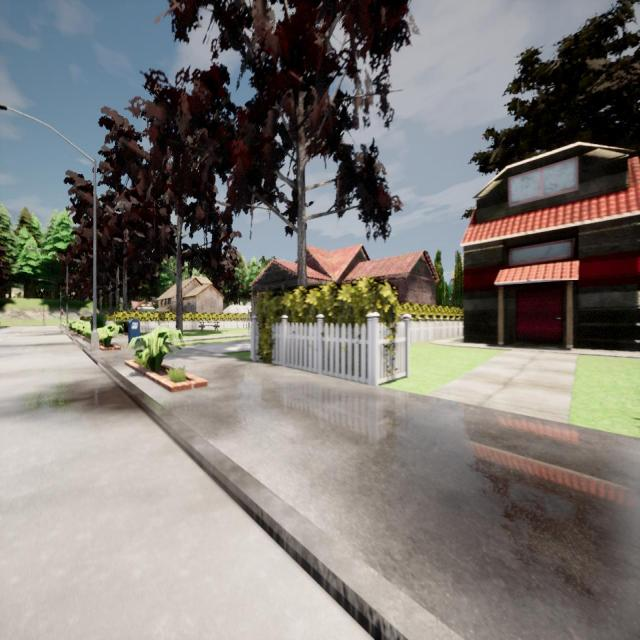traffic_light: (61, 309, 63, 315)
